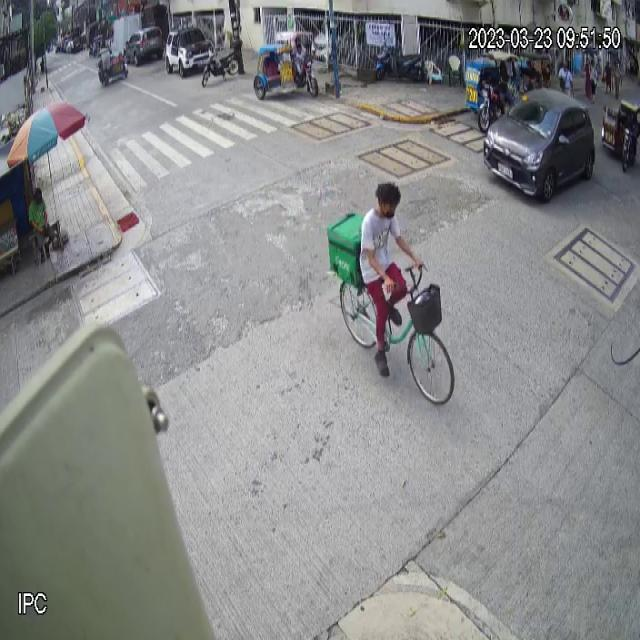Car: (482, 87, 596, 202)
Tricycle: (464, 50, 520, 134), (252, 30, 318, 101)
